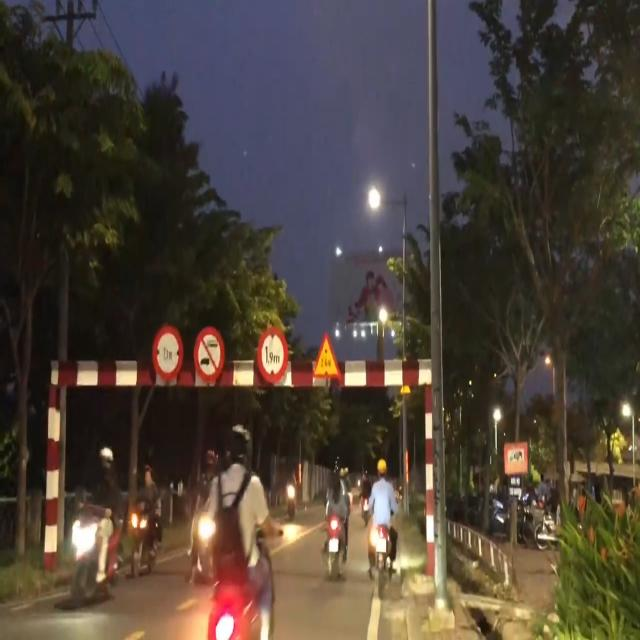Bien bao cam xe oto khach va xe oto tai: (193, 322, 226, 383)
Bien bao chieu cao tinh khong thuc te: (311, 328, 341, 383)
Bien bao han che chieu cao: (256, 327, 290, 390)
